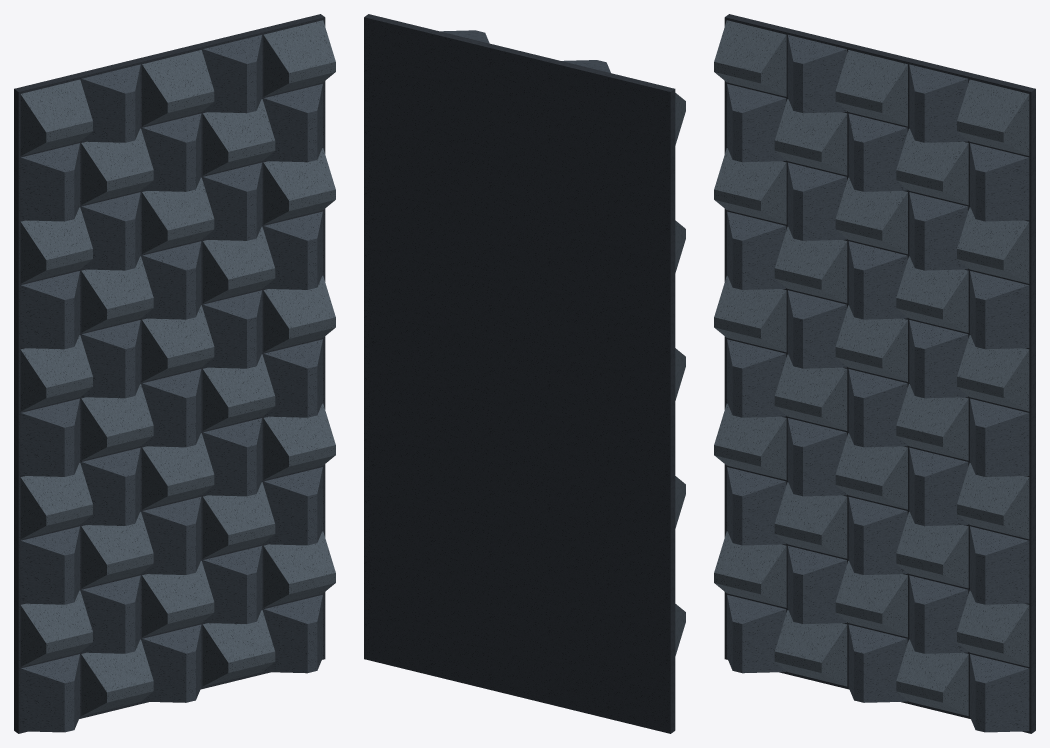
3 renders of one model, left to right at view 1: azimuth 30°, elevation 25°; view 2: azimuth 150°, elevation 25°; view 3: azimuth 330°, elevation 25°, orthographic.
Visible parts, largest first — view 1: continuous-bonded-base, wedge-9-0, wedge-9-4, wedge-9-2, wedge-0-0, wedge-2-0, wedge-6-0, wedge-8-0, wedge-4-0, wedge-2-3, wedge-0-3, wedge-4-3 (+39 smaller); view 2: continuous-bonded-base; view 3: continuous-bonded-base, wedge-9-4, wedge-9-0, wedge-9-2, wedge-0-4, wedge-2-4, wedge-6-4, wedge-8-4, wedge-4-4, wedge-2-1, wedge-0-1, wedge-4-1 (+39 smaller).
Part boxes in pixels (bbox=[...]): continuous-bonded-base: bbox=[14, 14, 325, 733]; wedge-9-0: bbox=[20, 79, 92, 155]; wedge-9-4: bbox=[263, 20, 335, 96]; wedge-9-2: bbox=[142, 50, 214, 126]; wedge-0-0: bbox=[20, 654, 79, 732]; wedge-2-0: bbox=[20, 526, 79, 604]; wedge-6-0: bbox=[20, 271, 79, 349]; wedge-8-0: bbox=[20, 143, 79, 221]; wedge-4-0: bbox=[20, 398, 79, 476]; wedge-2-3: bbox=[202, 482, 275, 558]; wedge-0-3: bbox=[202, 610, 275, 686]; wedge-4-3: bbox=[202, 354, 275, 430]; continuous-bonded-base: bbox=[364, 14, 675, 733]; continuous-bonded-base: bbox=[724, 14, 1035, 733]; wedge-9-4: bbox=[957, 79, 1029, 155]; wedge-9-0: bbox=[714, 20, 786, 96]; wedge-9-2: bbox=[835, 50, 907, 126]; wedge-0-4: bbox=[970, 654, 1029, 732]; wedge-2-4: bbox=[970, 526, 1029, 604]; wedge-6-4: bbox=[970, 271, 1029, 349]; wedge-8-4: bbox=[970, 143, 1029, 221]; wedge-4-4: bbox=[970, 398, 1029, 476]; wedge-2-1: bbox=[774, 482, 847, 558]; wedge-0-1: bbox=[774, 610, 847, 686]; wedge-4-1: bbox=[774, 354, 847, 430].
Size of the model in its own units: 0.6 by 1.2 by 0.08.
Materials: 3 (3 with a texture image).
